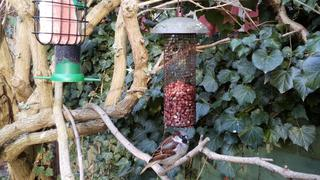sparrow: (139, 130, 190, 176)
